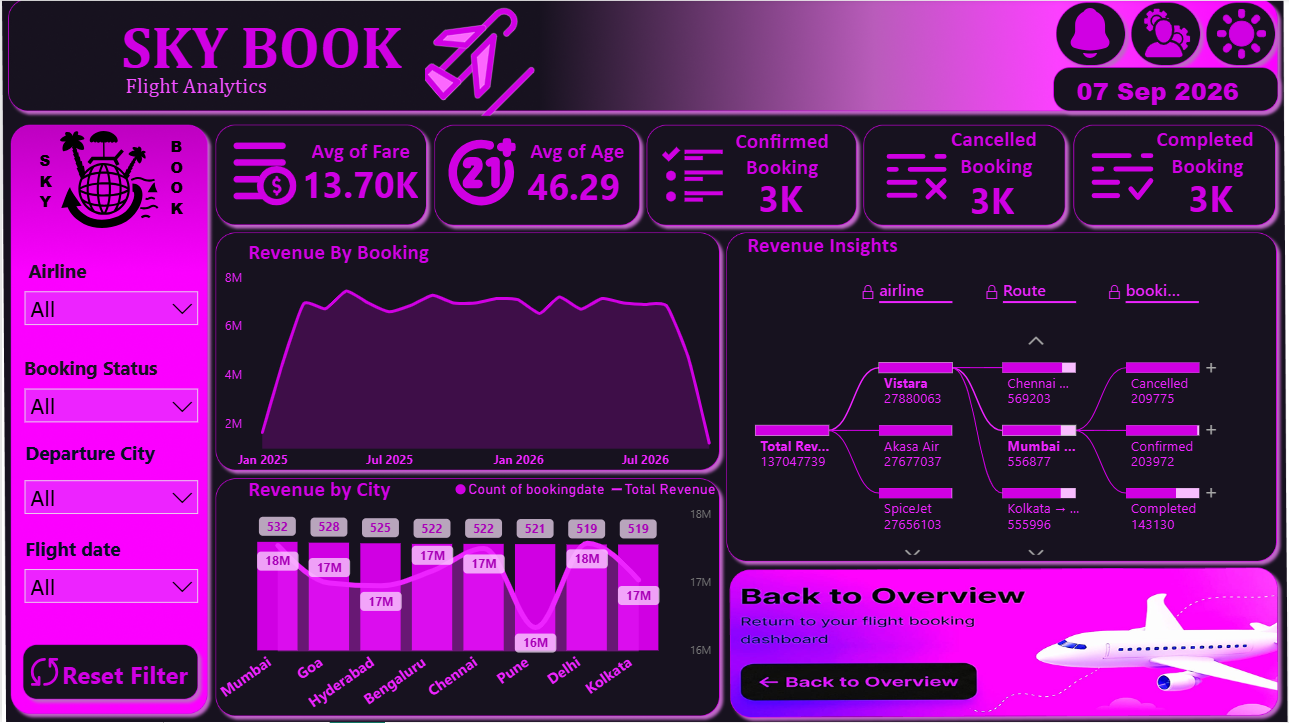

The page's visual inventory and layout, read from the dashboard file:
{"tool":"powerbi","page":{"name":"Flight Insights","canvas":[1280,720],"ordinal":1},"visuals":[{"type":"image","box":[0,0,1278.2,720],"z":0},{"type":"cardVisual","fields":{"Data":["customer_db_.Average Fare"]},"box":[278.4,147.3,167.6,66.2],"z":3000},{"type":"cardVisual","fields":{"Data":["customer_db_.Cancelled Bookings"]},"box":[943.2,158.1,127,74.3],"z":4000},{"type":"cardVisual","fields":{"Data":["customer_db_.Confirmed Bookings"]},"box":[732.4,156.8,181.1,74.3],"z":5000},{"type":"cardVisual","fields":{"Data":["customer_db_.Average Age"]},"box":[502.7,143.2,174.3,77],"z":6000},{"type":"cardVisual","fields":{"Data":["customer_db_.Completed Flights"]},"box":[1160.8,156.8,118.9,74.3],"z":7000},{"type":"actionButton","box":[17.9,635.7,185.7,67.9],"z":13000},{"type":"image","box":[393.2,0,167.1,121.9],"z":14000},{"type":"textbox","box":[113.7,8.2,305.5,113.7],"z":18000},{"type":"actionButton","box":[732.6,660,243.2,42.1],"z":25000},{"type":"textbox","box":[302.7,133.8,143.2,41.9],"z":26000},{"type":"textbox","box":[886.5,121.6,205.4,78.4],"z":27000},{"type":"textbox","box":[677,123,197.3,66.2],"z":28000},{"type":"textbox","box":[1113.5,121.6,166.2,75.7],"z":29000},{"type":"textbox","box":[520.3,133.8,156.8,41.9],"z":30000},{"type":"image","box":[205.5,138.2,110.9,72.7],"z":31000},{"type":"image","box":[1070.9,121.8,89.1,109.1],"z":32000},{"type":"image","box":[845.5,132.7,130.9,87.3],"z":33000},{"type":"image","box":[640.5,140.5,91.9,70.3],"z":34000},{"type":"image","box":[429.1,134.5,94.5,78.2],"z":35000},{"type":"textbox","box":[239.2,233.8,218.9,43.2],"z":36000},{"type":"textbox","box":[735.3,226.5,242.6,39.7],"z":37000},{"type":"textbox","box":[239.2,470.3,201.4,43.2],"z":38000},{"type":"cardVisual","fields":{"Data":["Min(customer_db_.Today's Date)"]},"box":[1051.6,48.4,214.1,78.1],"z":44000},{"type":"image","box":[1031.6,0,100,69.6],"z":45000},{"type":"image","box":[1114.8,6.2,87.7,58],"z":46000},{"type":"image","box":[1187.7,6.2,90.1,59.3],"z":47000},{"type":"textbox","box":[118,68,174,76],"z":48000},{"type":"image","box":[41.3,126.3,131.7,108.4],"z":49000},{"type":"textbox","box":[32.1,145.3,40.6,74.8],"z":50000},{"type":"textbox","box":[163,131.8,40.9,113.6],"z":51000},{"type":"textbox","box":[20.6,254.3,134,43],"z":52000},{"type":"slicer","fields":{"Values":["customer_db_.airline"]},"box":[12.8,282.1,192.4,68.4],"z":53000},{"type":"textbox","box":[17.2,350.6,170.1,41.2],"z":54000},{"type":"slicer","fields":{"Values":["customer_db_.bookingstatus"]},"box":[12.8,378.3,192.4,68.4],"z":55000},{"type":"textbox","box":[18.9,434.8,173.6,41.2],"z":56000},{"type":"slicer","fields":{"Values":["customer_db_.departurecity"]},"box":[12.8,470.2,192.4,68.4],"z":57000},{"type":"textbox","box":[18.9,529.3,132.3,41.2],"z":58000},{"type":"slicer","fields":{"Values":["customer_db_.flightdate"]},"box":[12.8,557.8,192.4,66.3],"z":59000},{"type":"textbox","box":[55.4,650,160.7,53.6],"z":60000},{"type":"image","box":[21.4,648.2,42.9,44.6],"z":61000},{"type":"lineClusteredColumnComboChart","title":"Financial Chart","fields":{"Y2":["customer_db_.Total Revenue"],"Y":["Count(customer_db_.bookingdate)"],"Category":["customer_db_.departurecity"]},"box":[210.4,466.2,509.7,253.9],"z":62000},{"type":"lineChart","fields":{"Y":["customer_db_.Total Revenue"],"Category":["customer_db_.flightdate.Variation.Date Hierarchy.Year","customer_db_.flightdate.Variation.Date Hierarchy.Month"]},"box":[216.2,263.5,516.2,213.5],"z":63000},{"type":"decompositionTreeVisual","fields":{"Analyze":["customer_db_.Total Revenue"],"ExplainBy":["customer_db_.airline","customer_db_.Route","customer_db_.bookingstatus","customer_db_.arrivalcity","customer_db_.departurecity"]},"box":[719,267,547,292],"z":64000}]}

Visuals, with their boxes in screenshot pixels (x1, y1, x2, y2), scaled from the page's 1280x720 canvas onto the 1289x723 screenshot:
image: (left=0, top=0, right=1287, bottom=722)
cardVisual - customer_db_.Average Fare: (left=280, top=148, right=449, bottom=214)
cardVisual - customer_db_.Cancelled Bookings: (left=950, top=159, right=1078, bottom=233)
cardVisual - customer_db_.Confirmed Bookings: (left=738, top=157, right=920, bottom=232)
cardVisual - customer_db_.Average Age: (left=506, top=144, right=682, bottom=221)
cardVisual - customer_db_.Completed Flights: (left=1169, top=157, right=1288, bottom=232)
actionButton: (left=18, top=638, right=205, bottom=707)
image: (left=396, top=0, right=564, bottom=122)
textbox: (left=114, top=8, right=422, bottom=122)
actionButton: (left=738, top=663, right=983, bottom=705)
textbox: (left=305, top=134, right=449, bottom=176)
textbox: (left=893, top=122, right=1100, bottom=201)
textbox: (left=682, top=124, right=880, bottom=190)
textbox: (left=1121, top=122, right=1288, bottom=198)
textbox: (left=524, top=134, right=682, bottom=176)
image: (left=207, top=139, right=319, bottom=212)
image: (left=1078, top=122, right=1168, bottom=232)
image: (left=851, top=133, right=983, bottom=221)
image: (left=645, top=141, right=738, bottom=212)
image: (left=432, top=135, right=527, bottom=214)
textbox: (left=241, top=235, right=461, bottom=278)
textbox: (left=740, top=227, right=985, bottom=267)
textbox: (left=241, top=472, right=444, bottom=516)
cardVisual - Min(customer_db_.Today's Date): (left=1059, top=49, right=1275, bottom=127)
image: (left=1039, top=0, right=1140, bottom=70)
image: (left=1123, top=6, right=1211, bottom=64)
image: (left=1196, top=6, right=1287, bottom=66)
textbox: (left=119, top=68, right=294, bottom=145)
image: (left=42, top=127, right=174, bottom=236)
textbox: (left=32, top=146, right=73, bottom=221)
textbox: (left=164, top=132, right=205, bottom=246)
textbox: (left=21, top=255, right=156, bottom=299)
slicer - customer_db_.airline: (left=13, top=283, right=207, bottom=352)
textbox: (left=17, top=352, right=189, bottom=393)
slicer - customer_db_.bookingstatus: (left=13, top=380, right=207, bottom=449)
textbox: (left=19, top=437, right=194, bottom=478)
slicer - customer_db_.departurecity: (left=13, top=472, right=207, bottom=541)
textbox: (left=19, top=532, right=152, bottom=573)
slicer - customer_db_.flightdate: (left=13, top=560, right=207, bottom=627)
textbox: (left=56, top=653, right=218, bottom=707)
image: (left=22, top=651, right=65, bottom=696)
"Financial Chart" lineClusteredColumnComboChart: (left=212, top=468, right=725, bottom=722)
lineChart - customer_db_.Total Revenue x customer_db_.flightdate.Variation.Date Hierarchy.Year: (left=218, top=265, right=738, bottom=479)
decompositionTreeVisual - customer_db_.Total Revenue x customer_db_.airline: (left=724, top=268, right=1275, bottom=561)
